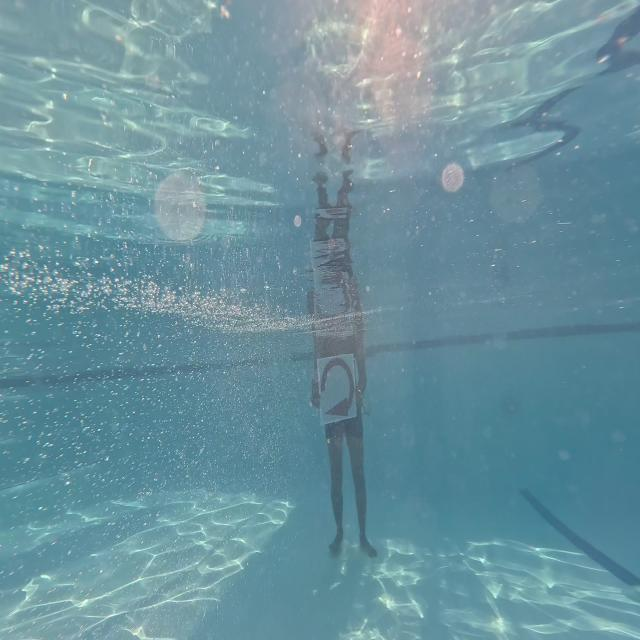red_side: (316, 348, 356, 426)
